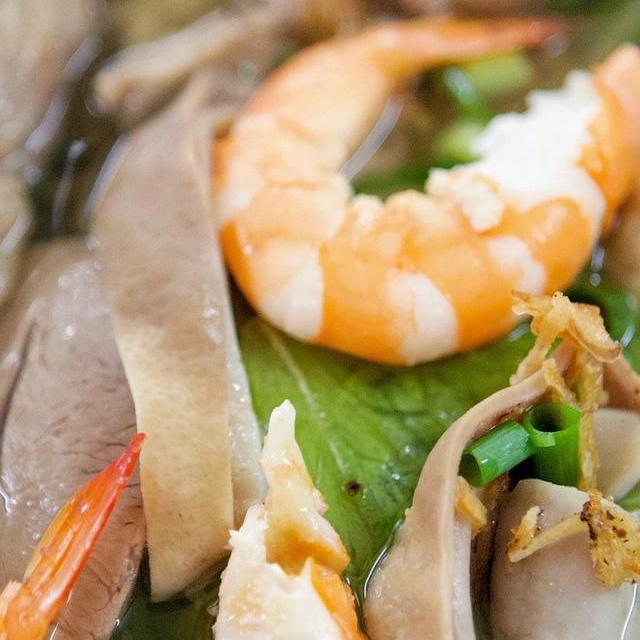thit heo: (0, 215, 170, 640), (0, 0, 138, 487)
tom: (197, 0, 640, 388), (0, 394, 409, 640)
